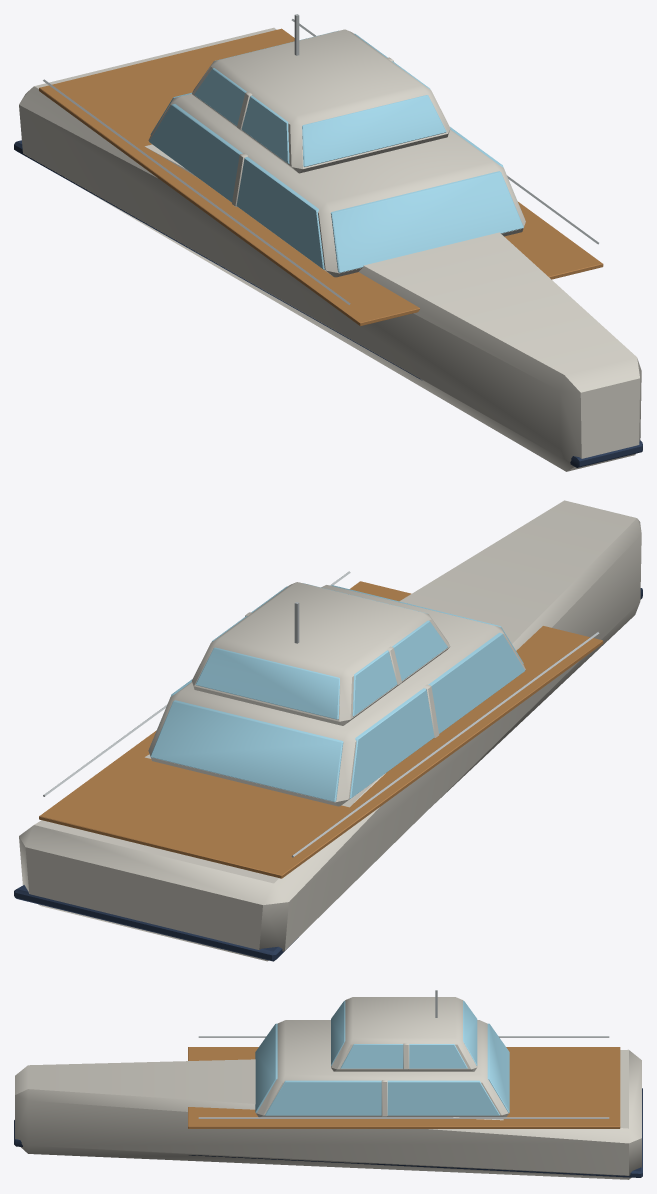
The model's file is 146_yacht_moteur.fbx.
The picture shows the model from 3 angles, top to bottom: view 1: azimuth 30°, elevation 25°; view 2: azimuth 150°, elevation 25°; view 3: azimuth 270°, elevation 25°; orthographic projection. The views are drawn at different scales.
Visible parts, largest first — view 1: Coque, Vitres, Cabine; view 2: Coque, Vitres, Cabine; view 3: Coque, Vitres, Cabine.
Part boxes in pixels (x1,y1,x2,y2): Coque: (14,19,642,471); Vitres: (149,30,523,272); Cabine: (148,14,525,277); Coque: (14,500,642,961); Vitres: (150,583,524,801); Cabine: (148,582,525,806); Coque: (14,1036,642,1179); Vitres: (255,1000,509,1115); Cabine: (256,990,508,1117).
Bounding box in the file's own units: 2.8 × 2.24 × 8.4.
Materials: 1 (1 with a texture image).
